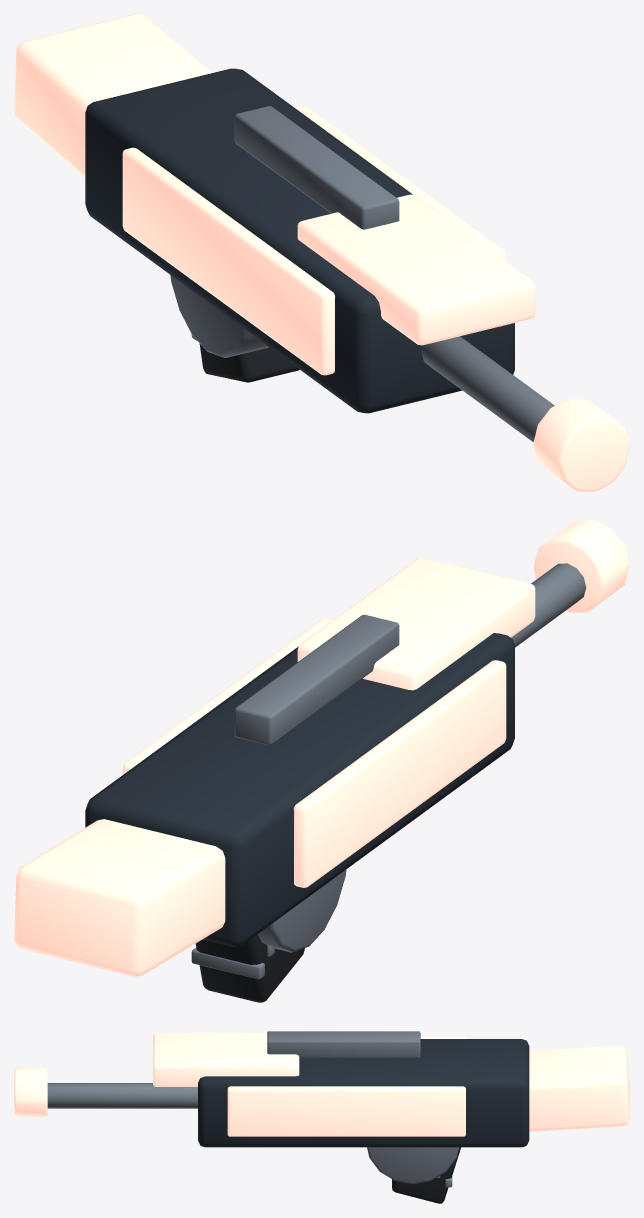
File: Brute_AutoShotgun.fbx
3 renders of one model, top to bottom at view 1: azimuth 30°, elevation 25°; view 2: azimuth 150°, elevation 25°; view 3: azimuth 270°, elevation 25°, orthographic. The views are drawn at different scales.
Visible parts, largest first — view 1: Receiver.015, HeatShield, SideArmorLeft.007, Stock.007, TopRail.015, MuzzleBrake.007, Barrel_00.007, DrumMagazine, Grip.015, SideArmorRight.007; view 2: Receiver.015, Stock.007, SideArmorLeft.007, HeatShield, TopRail.015, MuzzleBrake.007, Grip.015, DrumMagazine, Barrel_00.007, SideArmorRight.007, GripRib_03.015; view 3: Receiver.015, SideArmorRight.007, Stock.007, HeatShield, TopRail.015, Barrel_00.007, DrumMagazine, MuzzleBrake.007, Grip.015.
Boxes of the visible parts, x1,y1,x2,y2 form: Receiver.015: (85,68,514,413); HeatShield: (297,194,535,345); SideArmorLeft.007: (122,147,334,375); Stock.007: (14,14,211,177); TopRail.015: (234,106,399,229); MuzzleBrake.007: (533,399,629,491); Barrel_00.007: (421,336,554,442); DrumMagazine: (170,275,269,357); Grip.015: (199,344,299,382); SideArmorRight.007: (295,106,506,261); Receiver.015: (85,633,514,946); Stock.007: (14,819,225,976); SideArmorLeft.007: (293,660,506,887); HeatShield: (297,557,535,690); TopRail.015: (234,614,399,745); MuzzleBrake.007: (533,520,629,612); Grip.015: (195,934,304,1002); DrumMagazine: (258,870,346,952); Barrel_00.007: (511,563,586,647); SideArmorRight.007: (122,618,332,774); GripRib_03.015: (191,947,264,979); Receiver.015: (198,1039,529,1147); SideArmorRight.007: (227,1086,465,1136); Stock.007: (529,1045,629,1131); HeatShield: (153,1033,299,1086); TopRail.015: (267,1031,420,1058); Barrel_00.007: (47,1083,197,1108); DrumMagazine: (367,1147,458,1184); MuzzleBrake.007: (14,1067,47,1116); Grip.015: (392,1147,460,1203).
Bounding box in the file's own units: 128 × 179 × 623.
